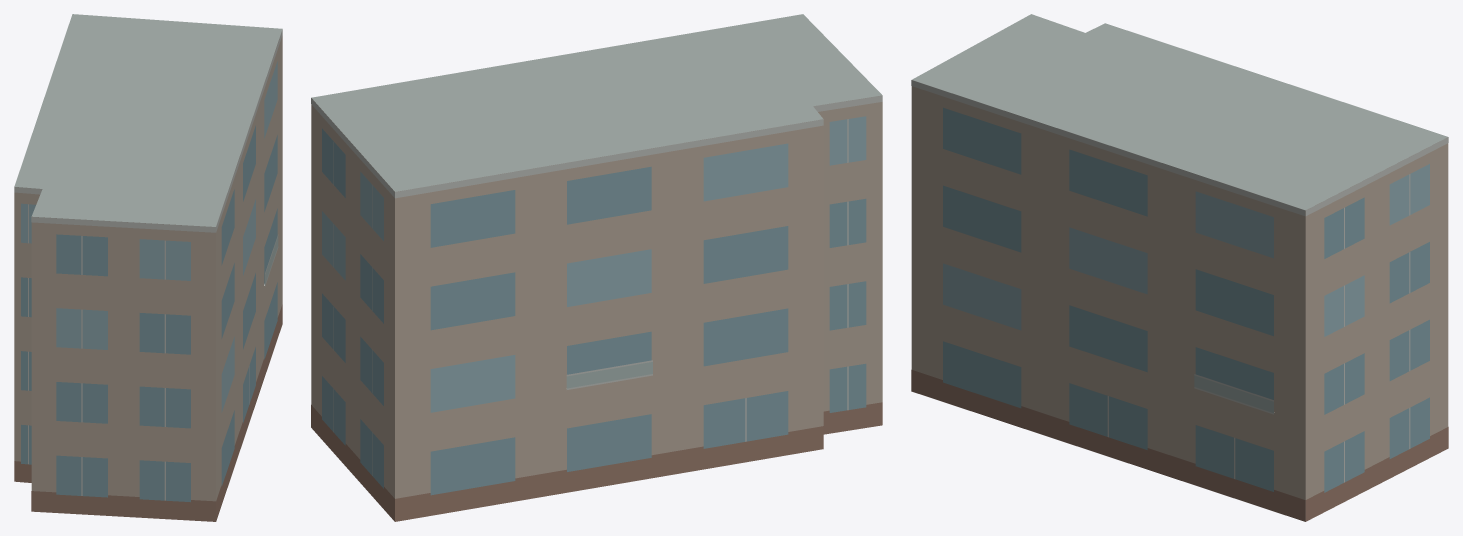
Rendered from survey-upis-32888714.glb.
3 renders of one model, left to right at view 1: azimuth 30°, elevation 25°; view 2: azimuth 150°, elevation 25°; view 3: azimuth 270°, elevation 25°, orthographic. The views are drawn at different scales.
Parts seen in each view (by area): view 1: survey-upis-32888714.tmp; view 2: survey-upis-32888714.tmp; view 3: survey-upis-32888714.tmp.
Part boxes in pixels (x1,y1,x2,y2): survey-upis-32888714.tmp: [14, 14, 282, 521]; survey-upis-32888714.tmp: [311, 14, 882, 521]; survey-upis-32888714.tmp: [911, 14, 1448, 521].
Size of the model in its own units: 16.96 by 12.54 by 19.6.
